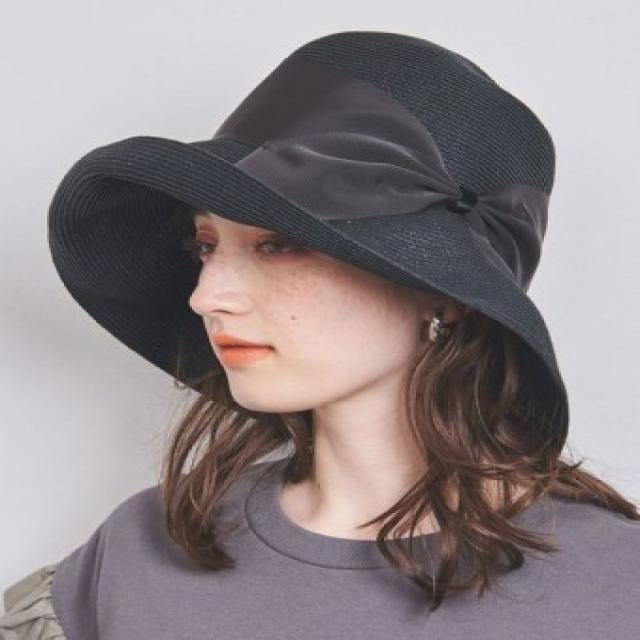hat: (43, 26, 576, 468)
